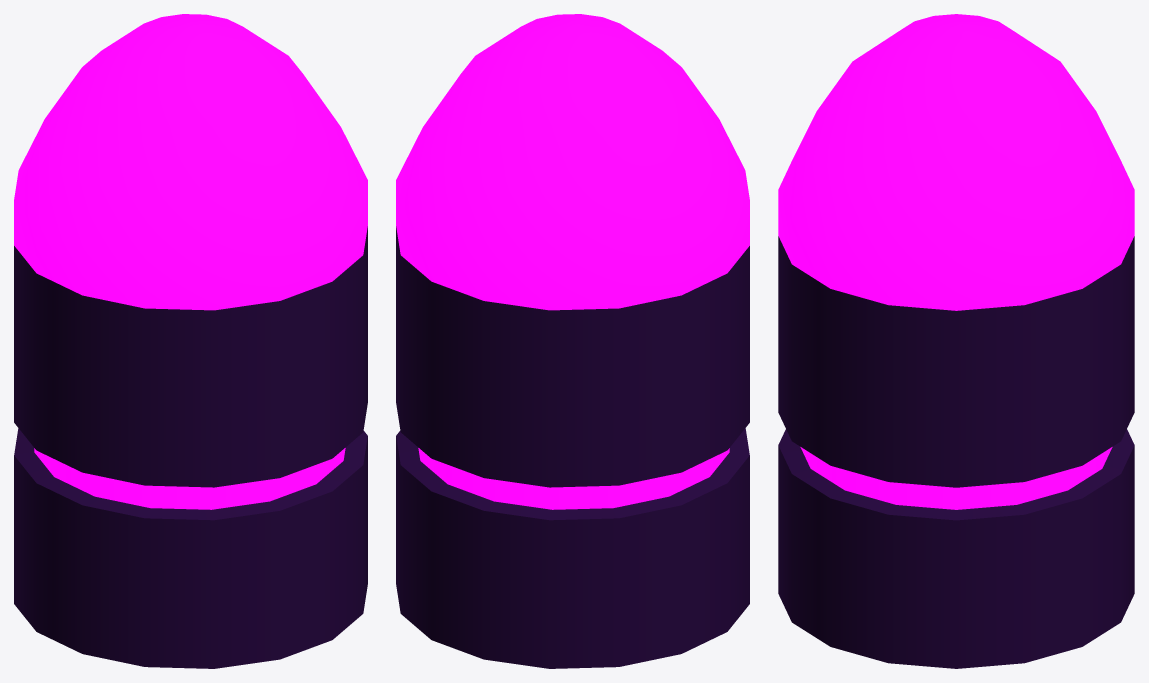
File: bullet_purple.fbx
3 renders of one model, left to right at view 1: azimuth 30°, elevation 25°; view 2: azimuth 150°, elevation 25°; view 3: azimuth 270°, elevation 25°, orthographic.
Parts seen in each view (by area): view 1: Cylinder.008; view 2: Cylinder.008; view 3: Cylinder.008.
Part boxes in pixels (x1,y1,x2,y2): Cylinder.008: (14,14,367,668); Cylinder.008: (396,14,749,668); Cylinder.008: (778,14,1134,668).
Size of the model in its own units: 21.57 by 37.92 by 21.57.
